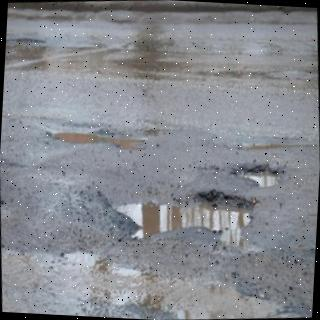pothole: (116, 190, 259, 246), (46, 131, 147, 151), (240, 169, 276, 188)
